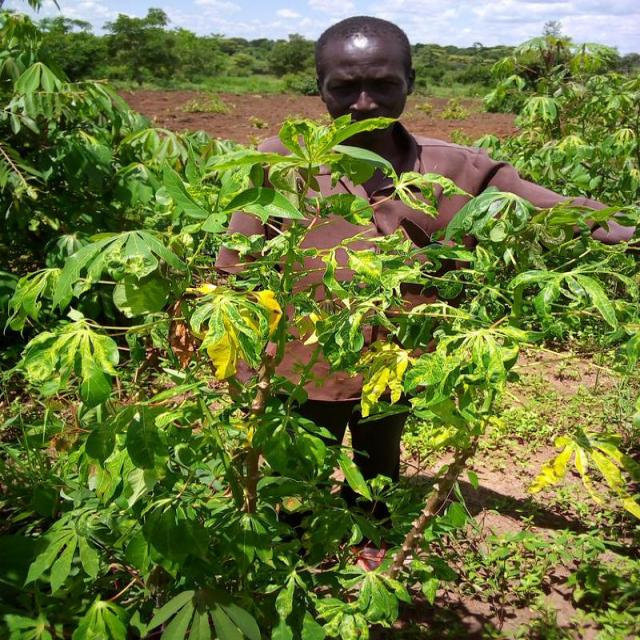cassava leaf: (1, 9, 638, 638)
